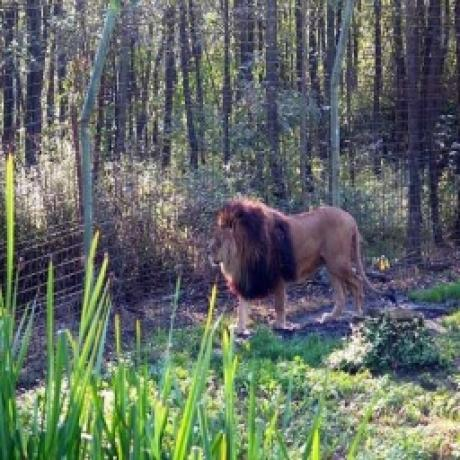Lion: (201, 193, 393, 334)
